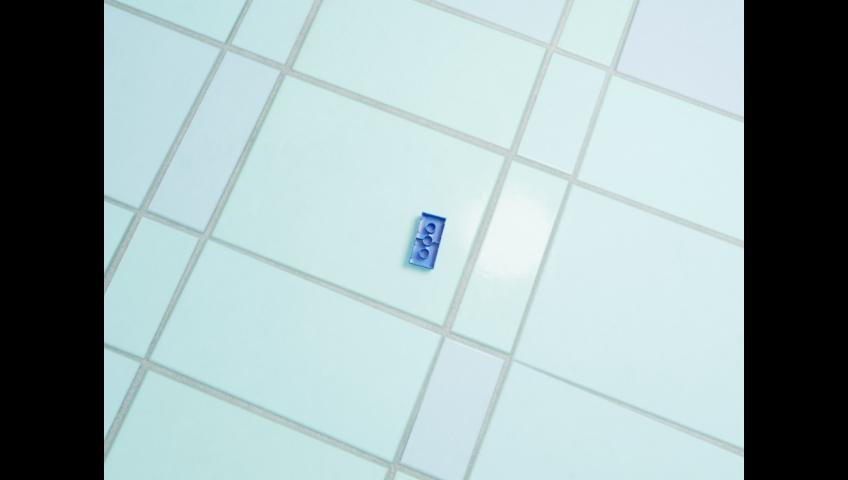4x2_blue: (408, 211, 446, 268)
